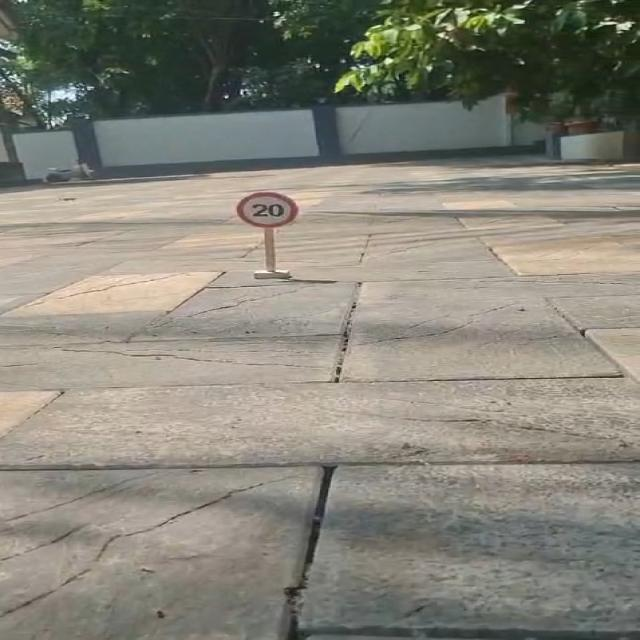Speed20: (228, 186, 305, 232)
